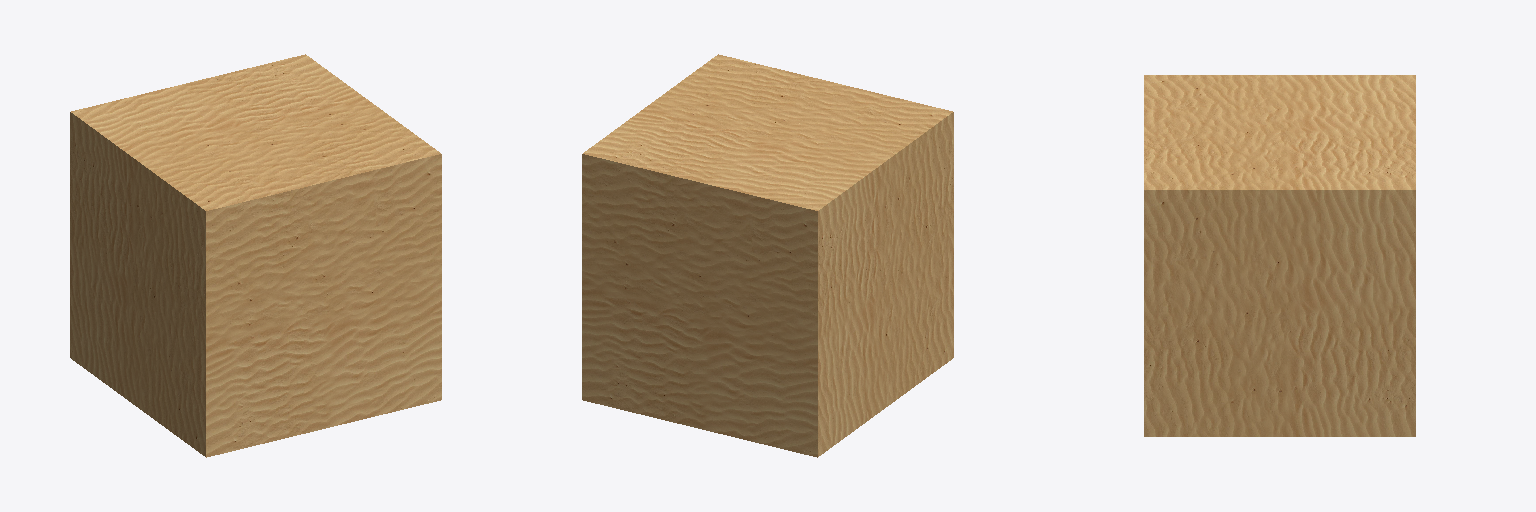
The picture shows the model from 3 angles: view 1: azimuth 30°, elevation 25°; view 2: azimuth 150°, elevation 25°; view 3: azimuth 270°, elevation 25°; orthographic projection.
Parts seen in each view (by area): view 1: LAND; view 2: LAND; view 3: LAND.
Part boxes in pixels (bbox=[...]): LAND: bbox=[70, 54, 441, 457]; LAND: bbox=[582, 54, 953, 457]; LAND: bbox=[1144, 75, 1415, 436].
Bounding box in the file's own units: 10 × 10 × 10.
1 materials, 1 textured.